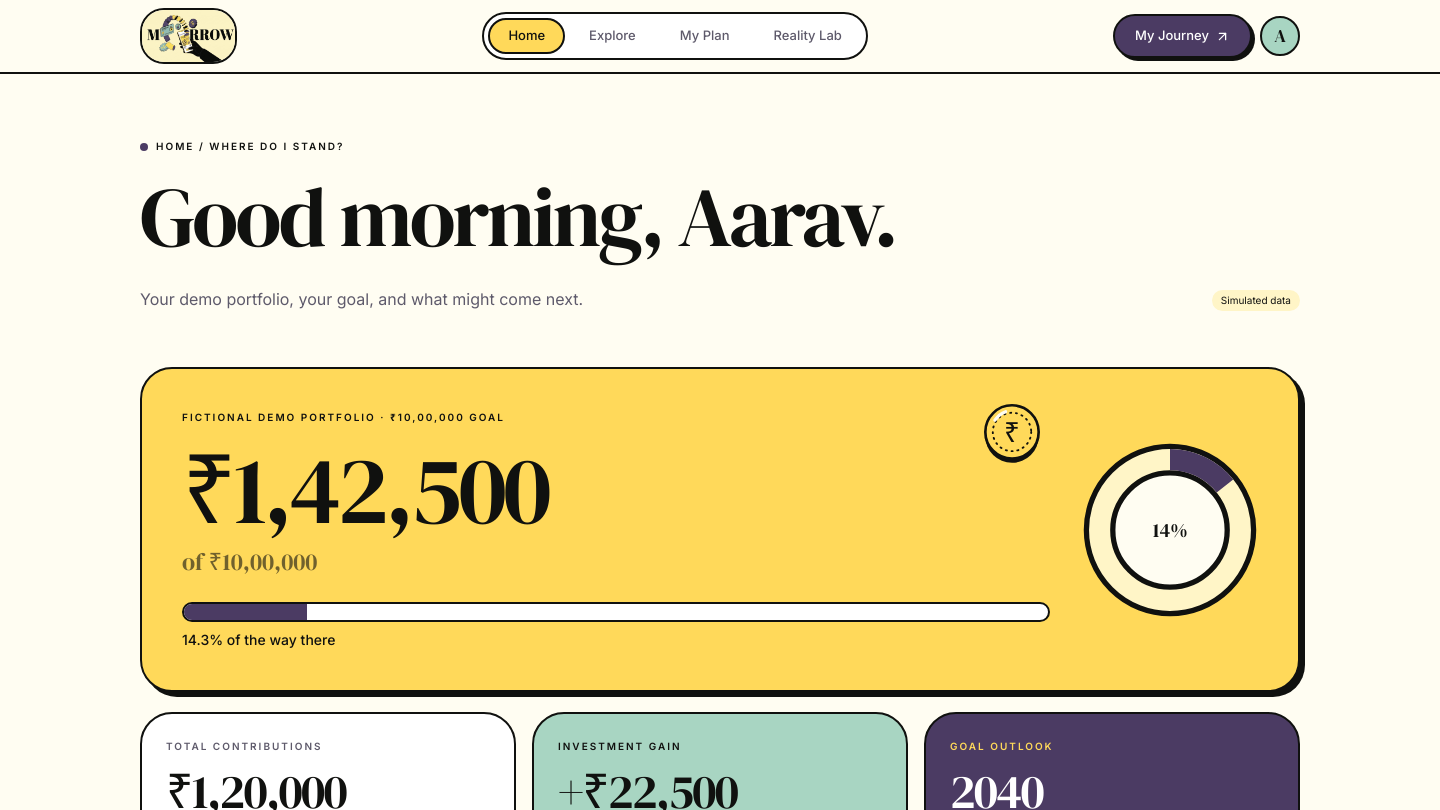
Test: application routes › navigates the four primary tabs and updates the active link
This screenshot has width=1440, height=810.
Check: the heading "Good morning, Aarav." is shown, box x1=140 y1=175 x2=896 y2=259
Click the link "Explore": x=612, y=35 x1=589 y1=27 x2=636 y2=43
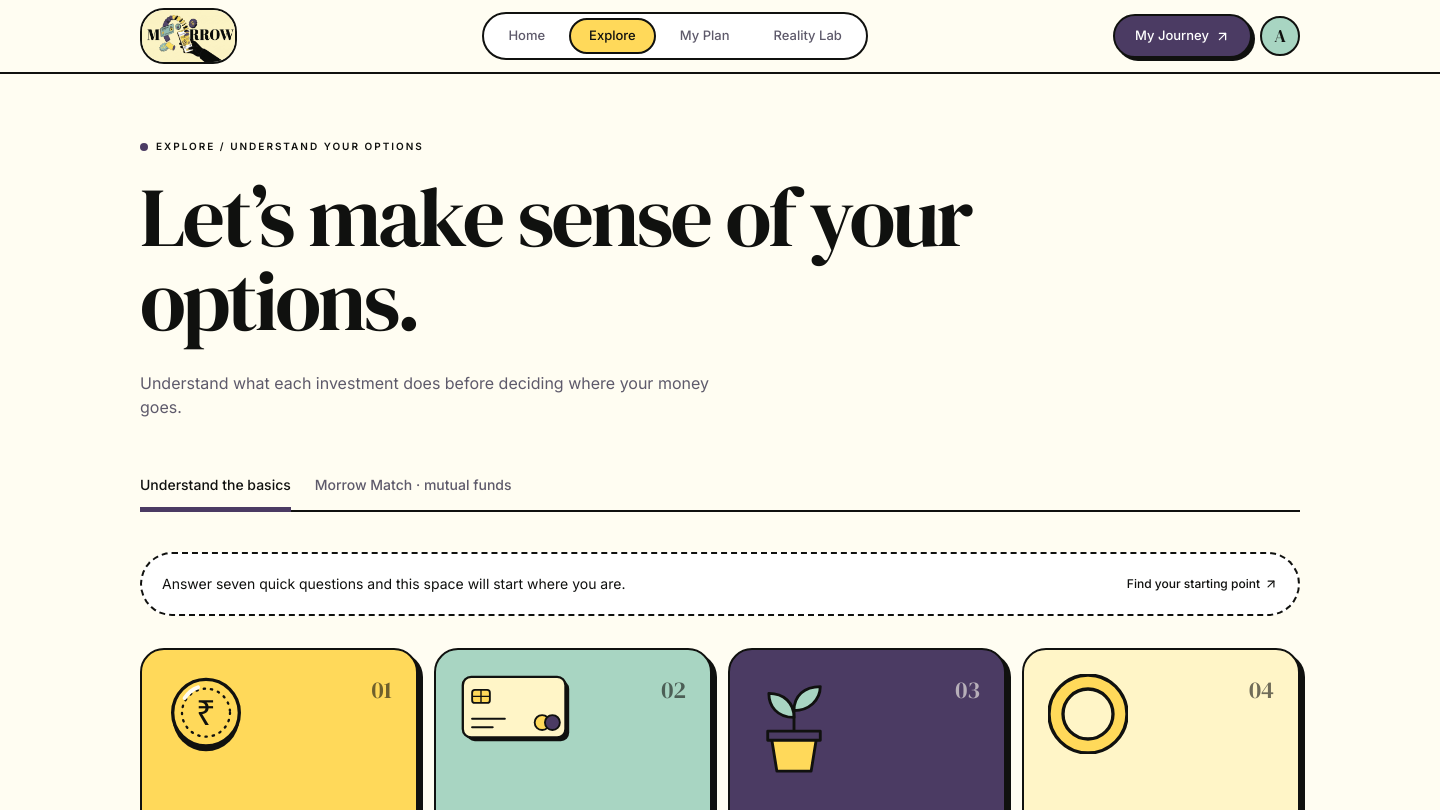
Check: the heading "Let’s make sense of your options." is shown, box x1=140 y1=175 x2=1036 y2=343
Click the link "My Plan": x=705, y=35 x1=680 y1=27 x2=730 y2=43
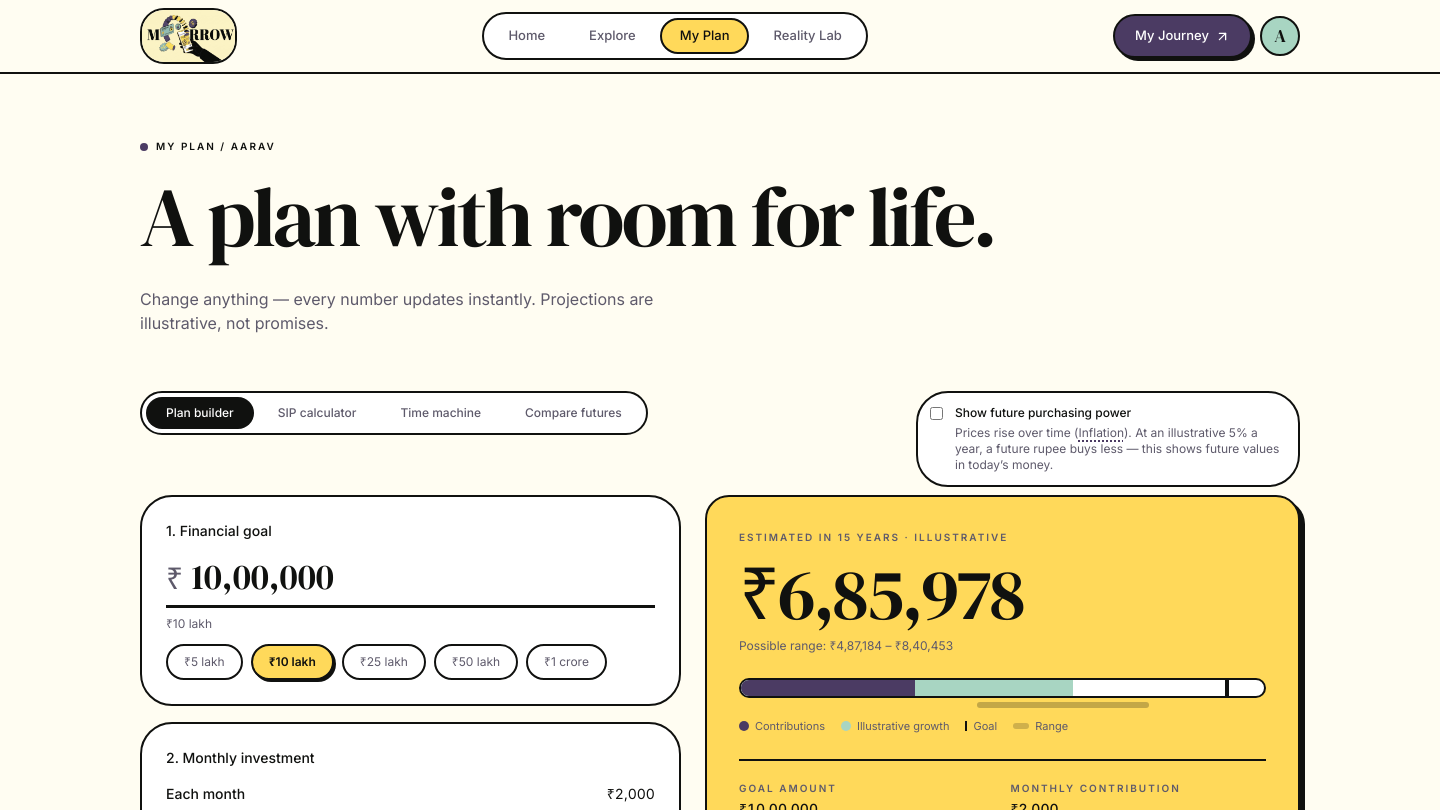
Check: the heading "A plan with room for life." is shown, box x1=140 y1=175 x2=995 y2=259
Click the link "Reality Lab": x=808, y=35 x1=774 y1=27 x2=842 y2=43
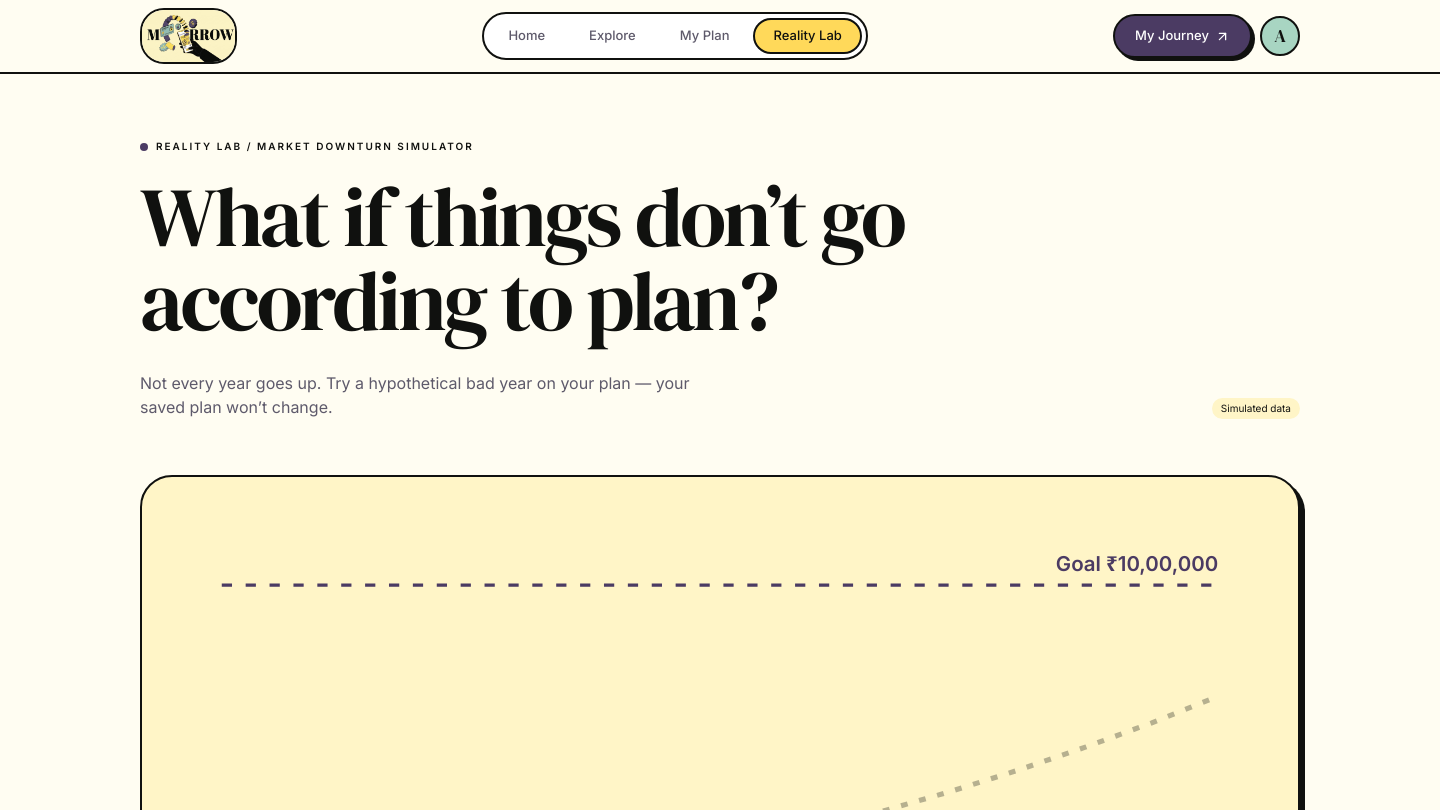
Check: the heading "What if things don’t go according to plan?" is shown, box x1=140 y1=175 x2=1036 y2=343
Click the link "Home": x=527, y=35 x1=508 y1=27 x2=545 y2=43
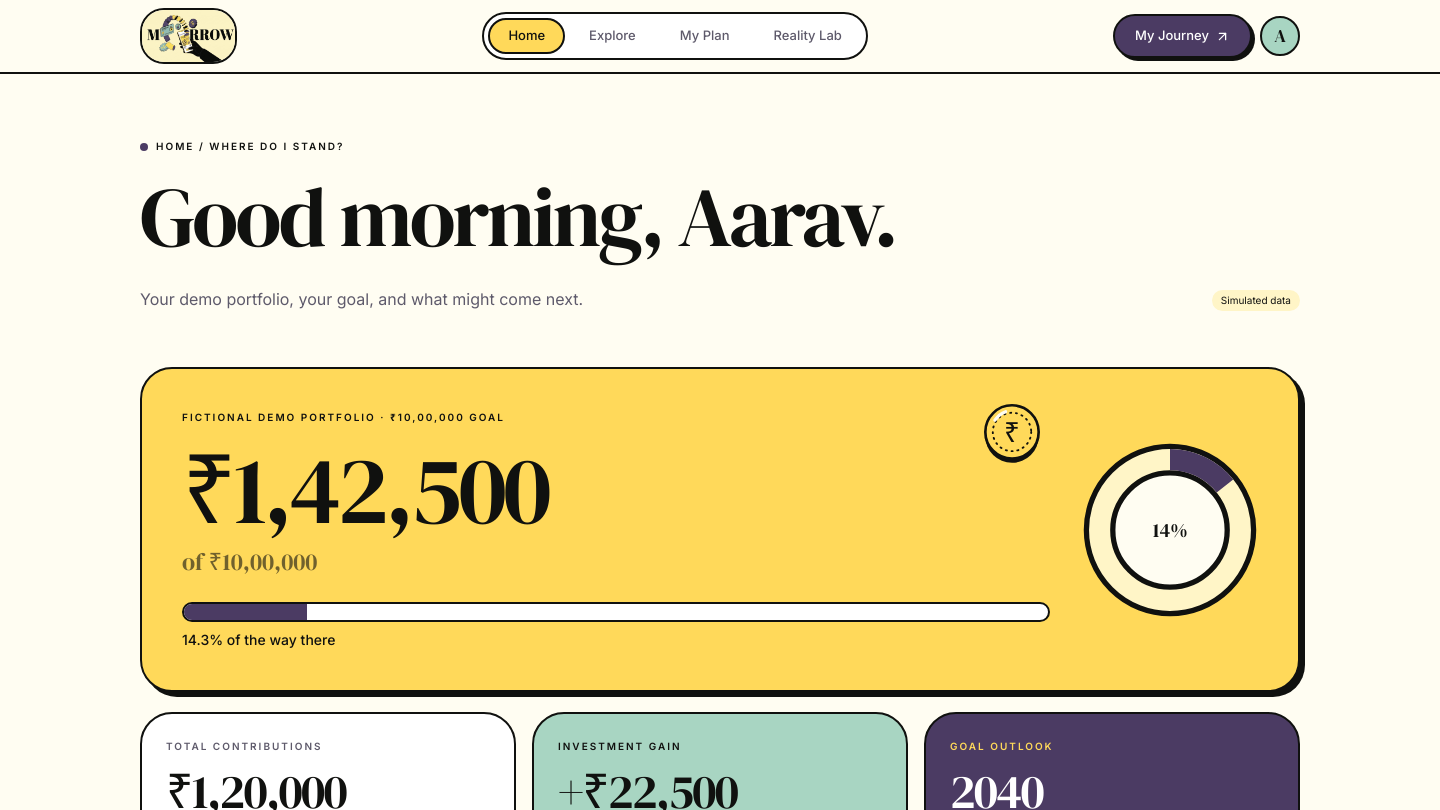
Check: the heading "Good morning, Aarav." is shown, box x1=140 y1=175 x2=896 y2=259
